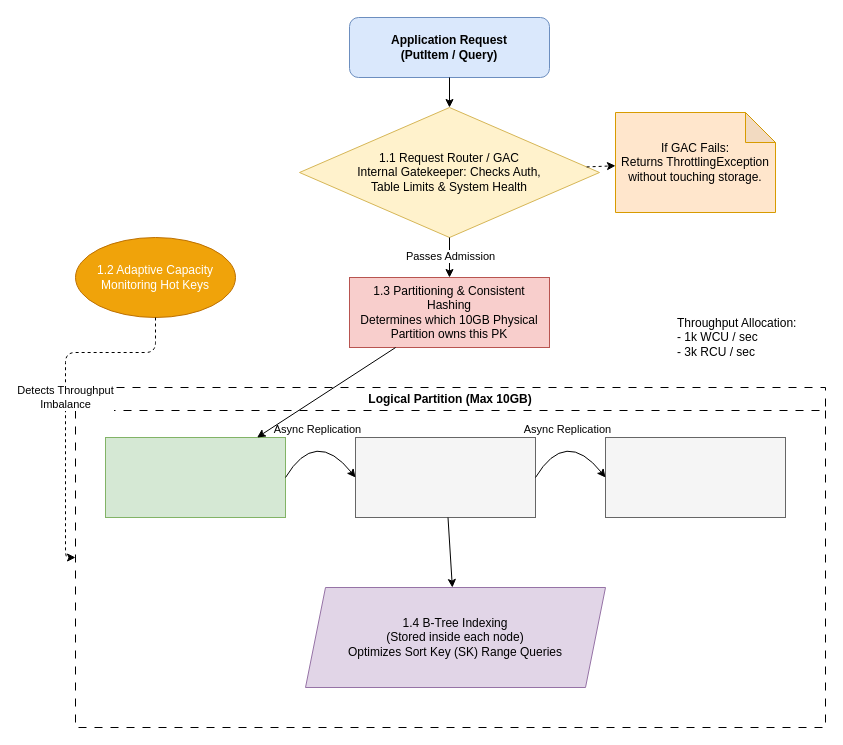
Image size: 843x745. Some labels were removed from this diagram. The centre of each missing label's shape, as x and y in pixels:
AZ-1: Leader (Node 1) Primary for WRITES: pixel 195 477
AZ-2: Follower (Node 2) Eventual Reads: pixel 445 477
AZ-3: Follower (Node 3) Eventual Reads: pixel 695 477
